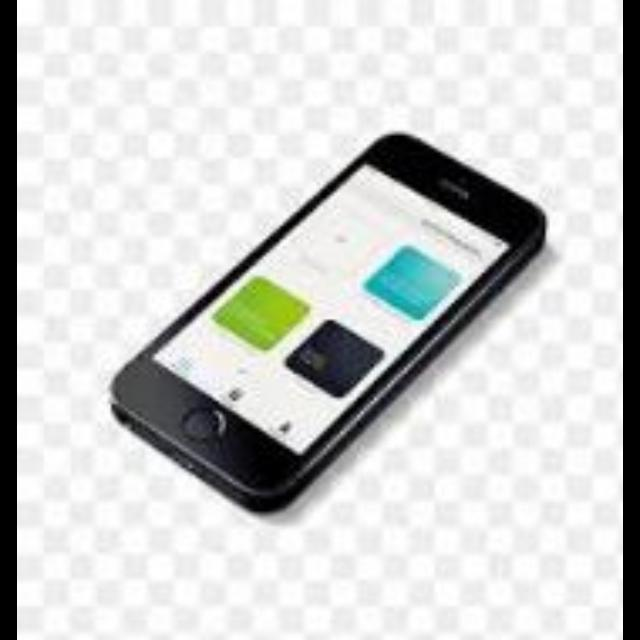phone: (96, 119, 554, 509)
